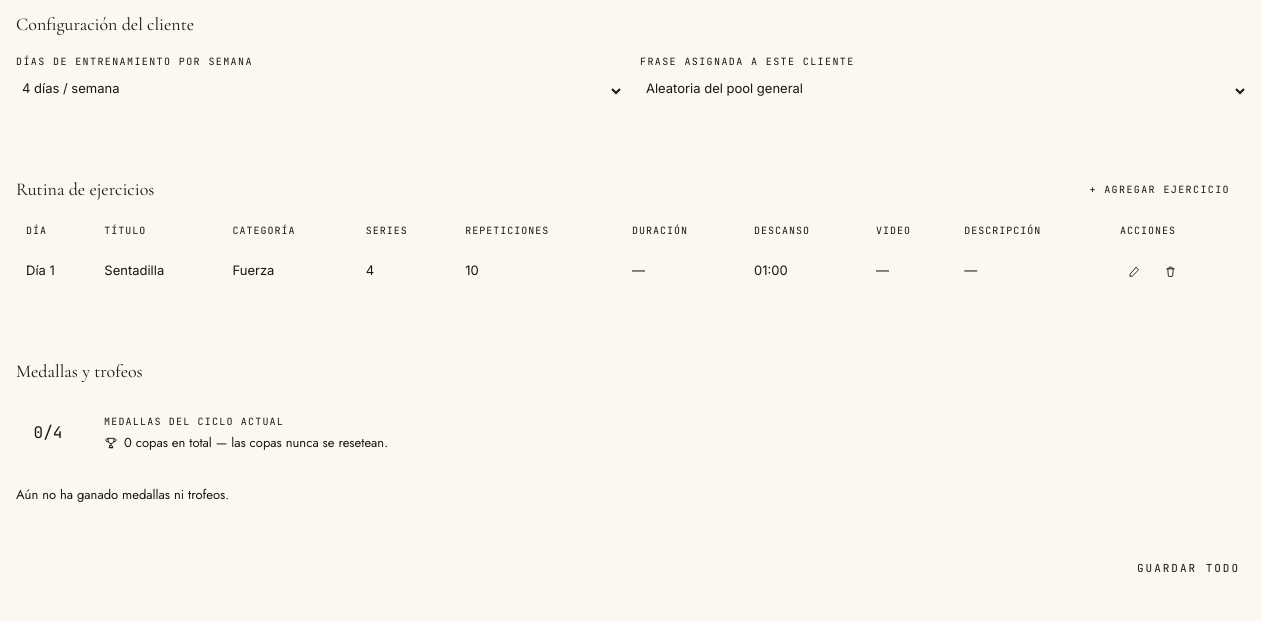
Test: AdminTrainingPanel › editing an existing row and cancelling reverts its values
Expected: the text "Sentadilla" is shown, [94,248,223,294]
Click the button named "Editar" at (1135, 271), box [1120,256,1150,286]
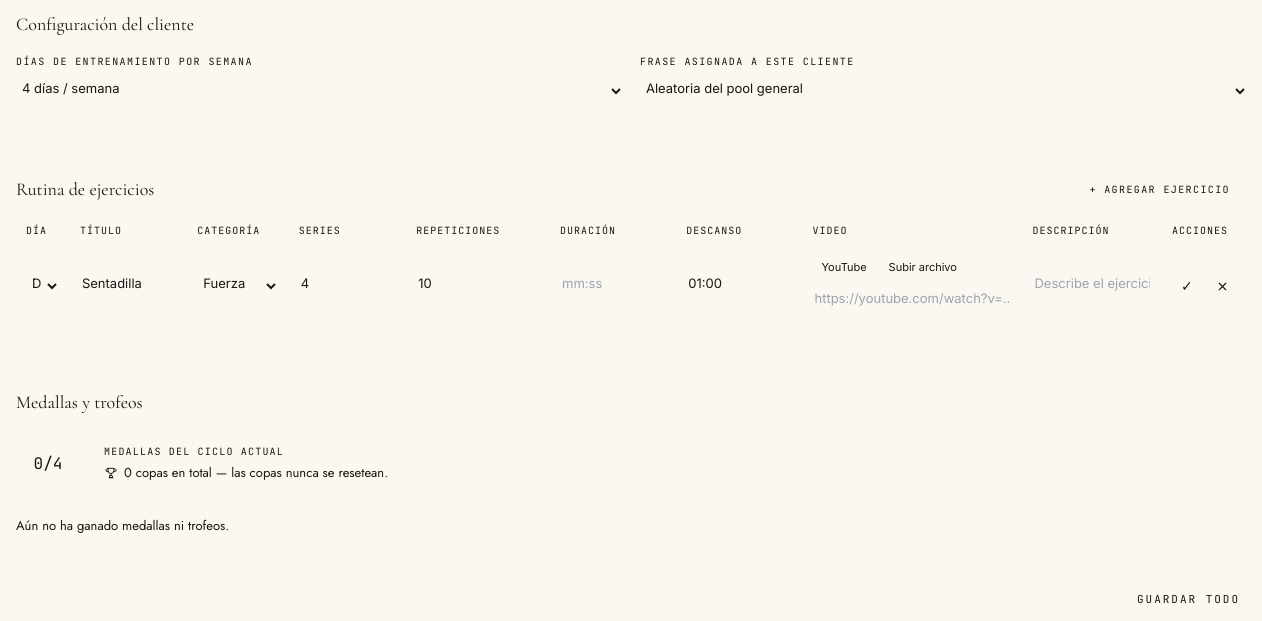
Replace the text in the 1st field showing "Sentadilla" with "Otro nombre" at (129, 286), box [80,270,177,302]
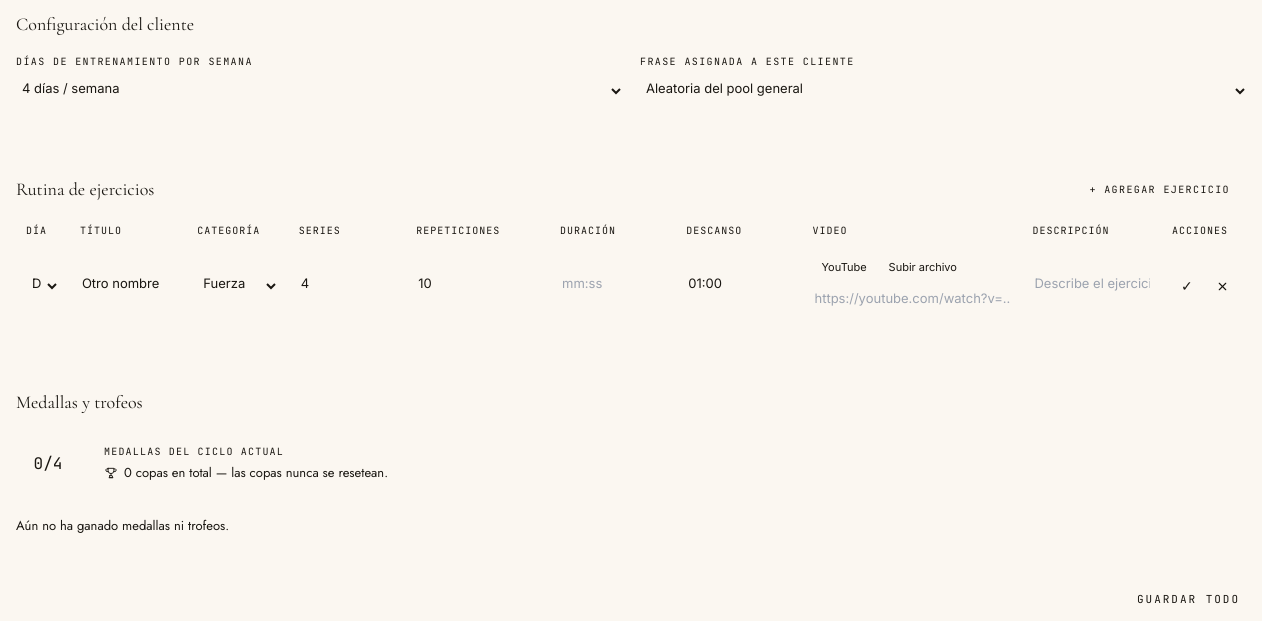
Click the button named "Cancelar" at (1223, 286), box [1208,271,1238,301]
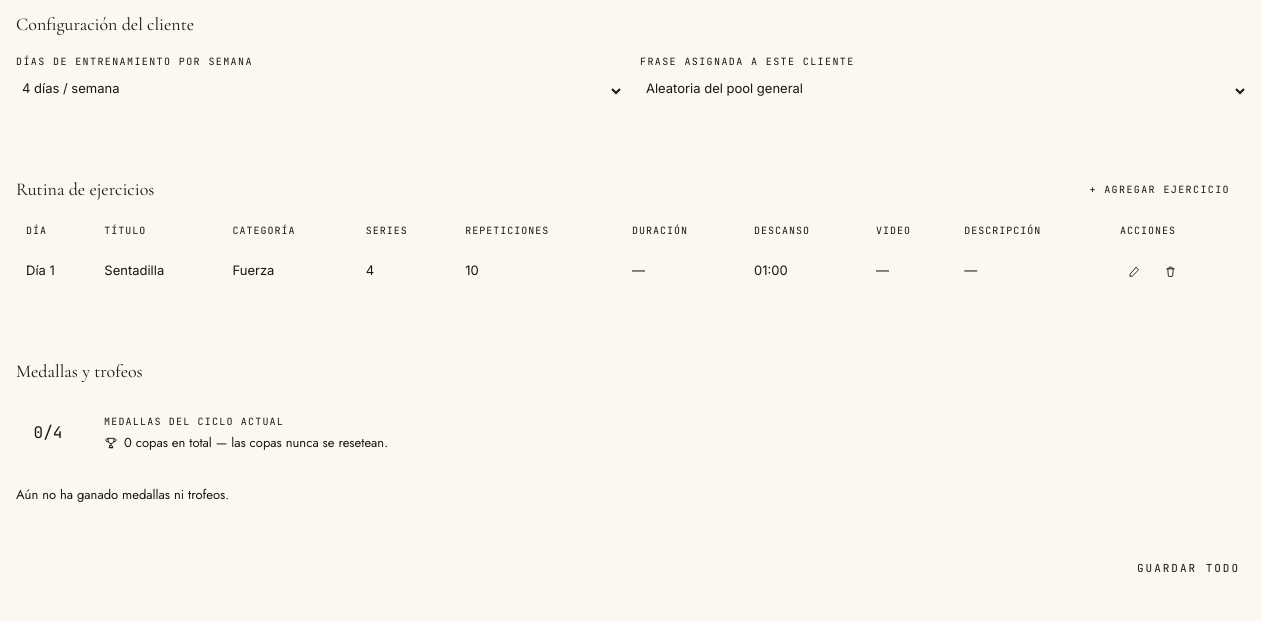
Expected: the text "Otro nombre" is not shown
Now the text "Sentadilla" is shown, box [94,248,223,294]
